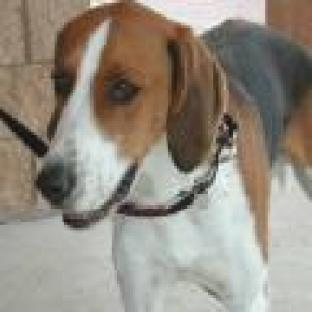Animal: (39, 0, 312, 309)
